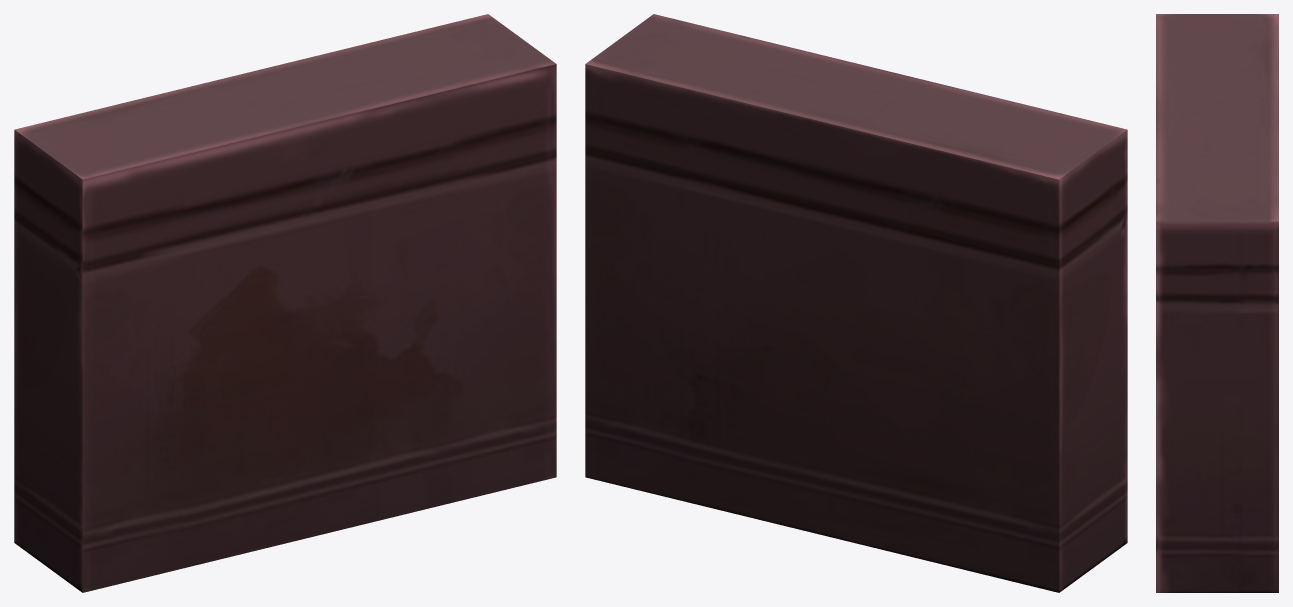
Rendered from mig_wall_1.FBX.
The picture shows the model from 3 angles, left to right: view 1: azimuth 30°, elevation 25°; view 2: azimuth 150°, elevation 25°; view 3: azimuth 270°, elevation 25°; orthographic projection. The views are drawn at different scales.
Visible parts, largest first — view 1: Box004; view 2: Box004; view 3: Box004.
Part boxes in pixels (bbox=[...]): Box004: bbox=[14, 14, 556, 592]; Box004: bbox=[585, 14, 1127, 592]; Box004: bbox=[1156, 14, 1278, 592].
Bounding box in the file's own units: 120 × 100 × 30.
